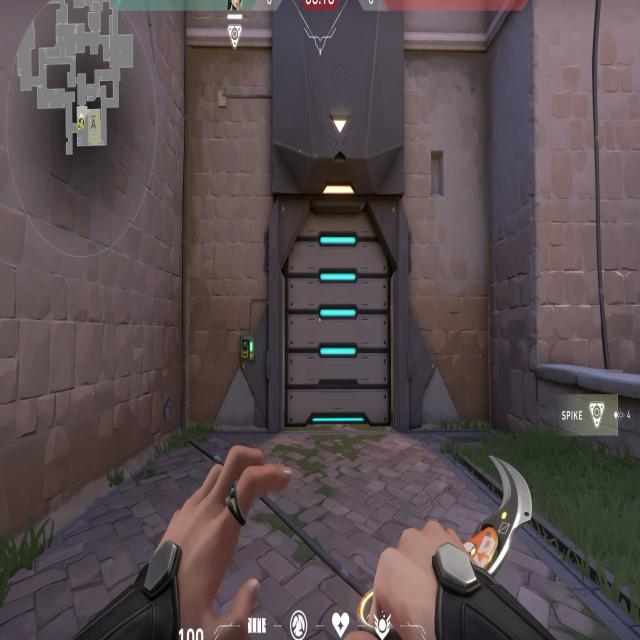A_Door: (275, 202, 398, 433)
